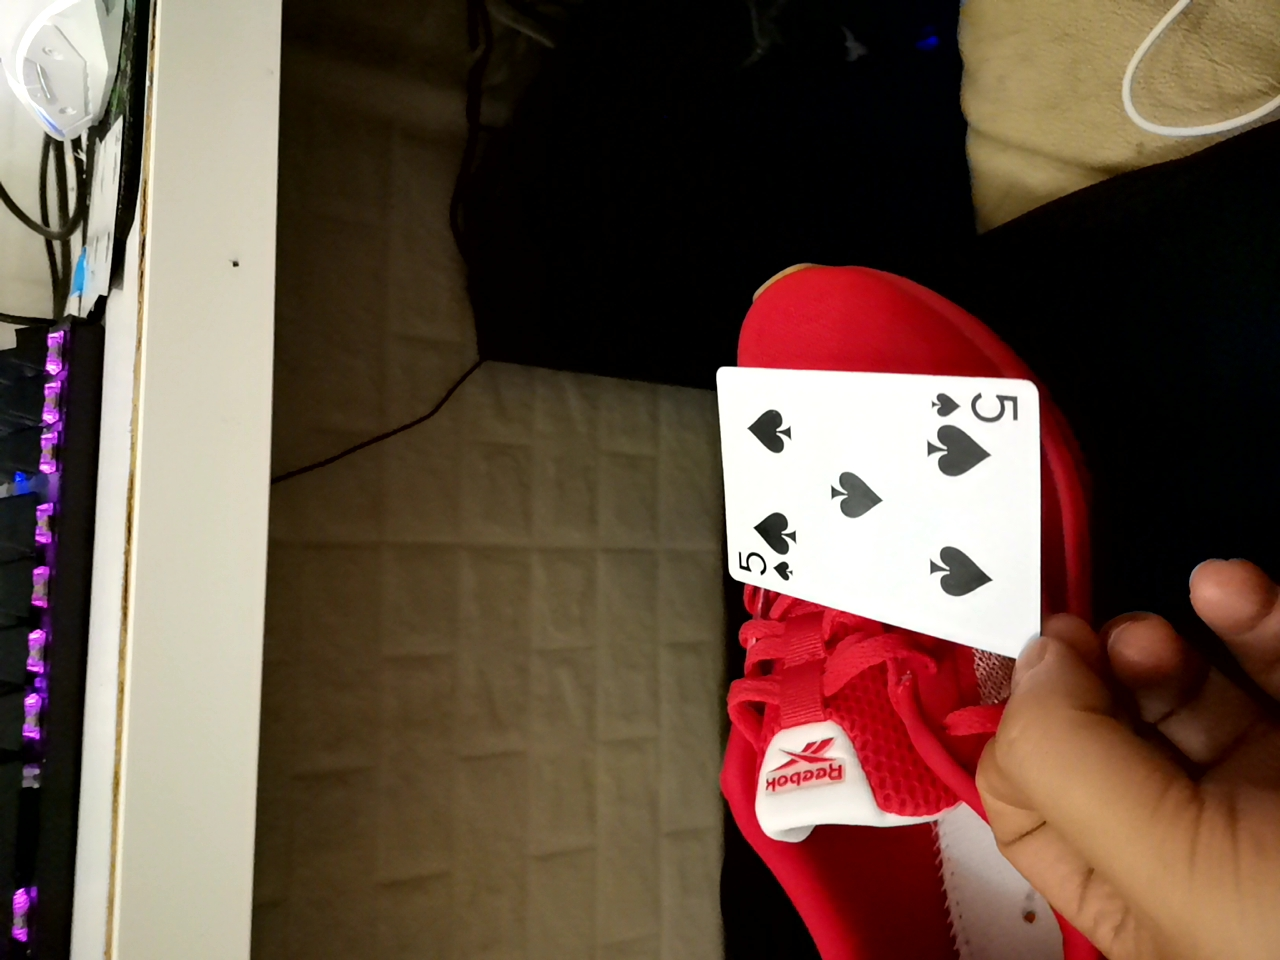ht 5: (699, 364, 1024, 641)
